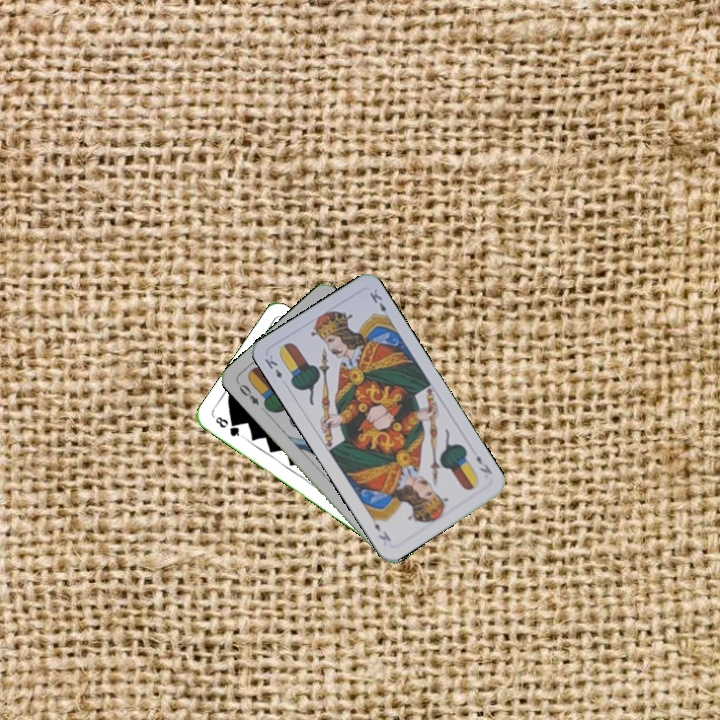EK: (261, 350, 285, 382), (472, 451, 495, 477)
EO: (233, 378, 262, 408)
G8: (211, 412, 246, 440)
